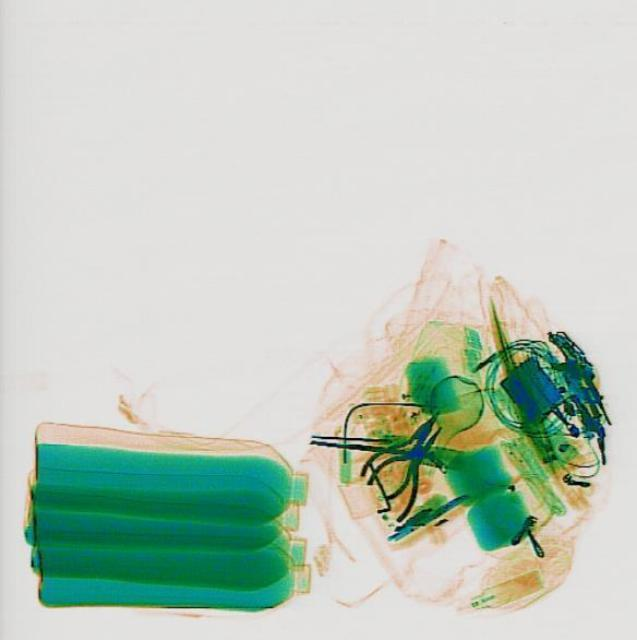Pliers: (352, 411, 462, 521), (352, 396, 455, 500)
